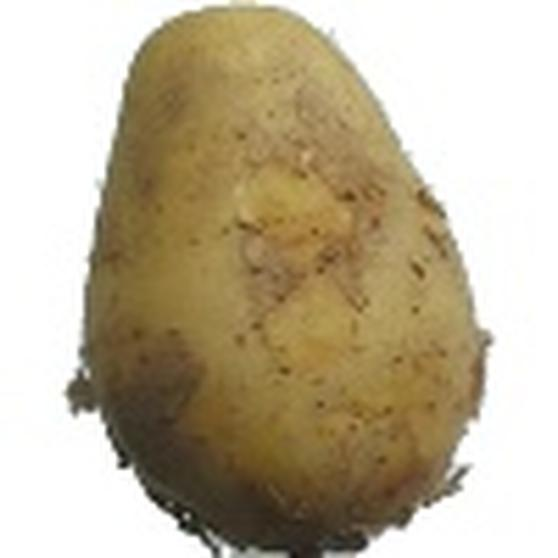potato: (61, 1, 503, 558)
